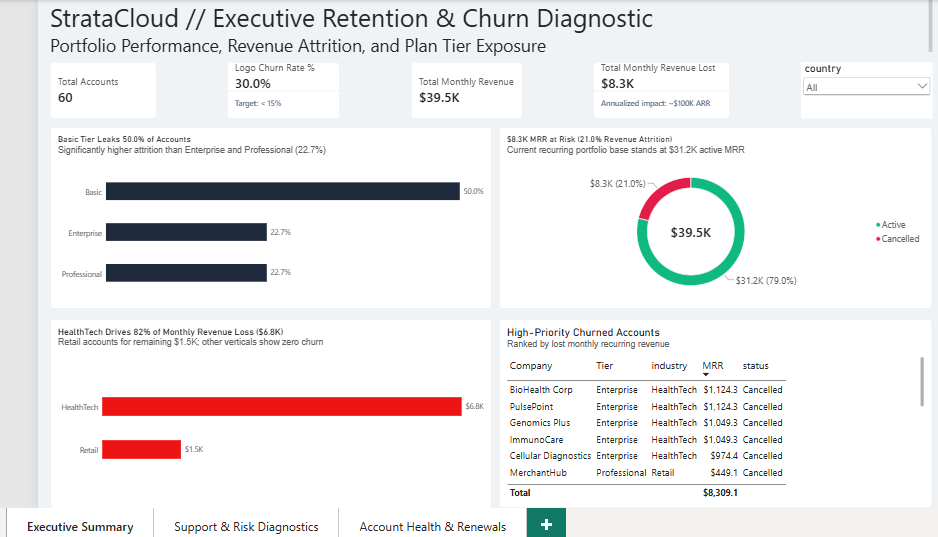

This screenshot's page, from the dashboard's own definition file:
{"tool":"powerbi","page":{"name":"Executive Summary","canvas":[1920,1080],"ordinal":0},"visuals":[{"type":"cardVisual","fields":{"Data":["Measure.Total Accounts"]},"box":[25.4,131.9,226.7,120.3],"z":0},{"type":"cardVisual","fields":{"Data":["Measure.Total Monthly Revenue Lost"]},"box":[1179.8,131.9,291.5,120.3],"z":1000},{"type":"cardVisual","fields":{"Data":["Measure.Total Monthly Revenue"]},"box":[793.4,131.9,238.3,120.3],"z":2000},{"type":"cardVisual","fields":{"Data":["Measure.Logo Churn Rate %"]},"box":[402.5,131.9,240.6,120.3],"z":3000},{"type":"textbox","box":[25.4,0,1876,131.9],"z":4000},{"type":"clusteredBarChart","title":"Basic Tier Leaks 50.0% of Accounts","fields":{"Category":["vw_customer_retention_summary.plan_name"],"Y":["Measure.Logo Churn Rate %"]},"box":[25.4,270.7,939.2,386.3],"z":5000},{"type":"donutChart","title":"$8.3K MRR at Risk (21.0% Revenue Attrition)","fields":{"Category":["vw_customer_retention_summary.status"],"Y":["Sum(vw_customer_retention_summary.monthly_revenue)"]},"box":[980.8,270.7,920.7,386.3],"z":6000},{"type":"barChart","title":"HealthTech Drives 82% of Monthly Revenue Loss ($6.8K)","fields":{"Category":["vw_customer_retention_summary.industry"],"Y":["Measure.Total Monthly Revenue Lost"]},"box":[25.4,677.8,939.2,402.5],"z":7000},{"type":"slicer","fields":{"Values":["vw_customer_retention_summary.country"]},"box":[1621.6,131.9,279.9,120.3],"z":8000},{"type":"tableEx","title":"High-Priority Churned Accounts","fields":{"Values":["vw_customer_retention_summary.company_name","vw_customer_retention_summary.plan_name","vw_customer_retention_summary.industry","Sum(vw_customer_retention_summary.monthly_revenue)","vw_customer_retention_summary.status"]},"box":[981,678,921,402],"z":9000}]}

Visuals, with their boxes on the page's 1920x1080 design canvas (x1, y1, x2, y2). These are canvas units, not pixel positions in the 938x537 screenshot, which may show the page scaled, cropped or inside an application window:
cardVisual - Measure.Total Accounts: (25, 132, 252, 252)
cardVisual - Measure.Total Monthly Revenue Lost: (1180, 132, 1471, 252)
cardVisual - Measure.Total Monthly Revenue: (793, 132, 1032, 252)
cardVisual - Measure.Logo Churn Rate %: (402, 132, 643, 252)
textbox: (25, 0, 1901, 132)
"Basic Tier Leaks 50.0% of Accounts" clusteredBarChart: (25, 271, 965, 657)
"$8.3K MRR at Risk (21.0% Revenue Attrition)" donutChart: (981, 271, 1902, 657)
"HealthTech Drives 82% of Monthly Revenue Loss ($6.8K)" barChart: (25, 678, 965, 1080)
slicer - vw_customer_retention_summary.country: (1622, 132, 1902, 252)
"High-Priority Churned Accounts" tableEx: (981, 678, 1902, 1080)
